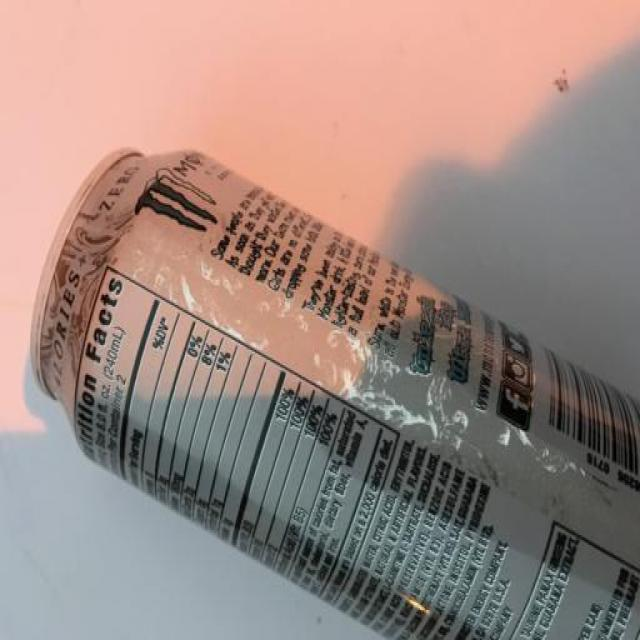metel: (30, 122, 640, 640)
